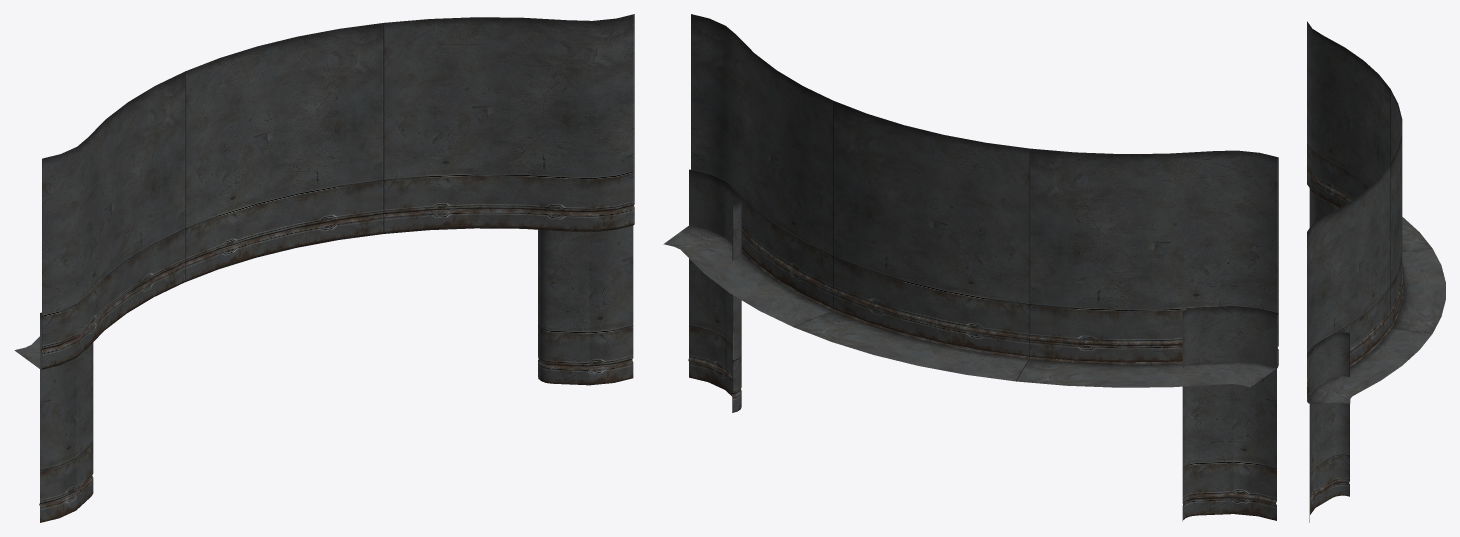
File: datasite_divesuit_lockers.dae
3 views of the same model, side by side, from view 1: azimuth 30°, elevation 25°; view 2: azimuth 150°, elevation 25°; view 3: azimuth 270°, elevation 25° (orthographic). The views are drawn at different scales.
Visible parts, largest first — view 1: divesuit_lockers; view 2: divesuit_lockers; view 3: divesuit_lockers.
Part boxes in pixels (x1=…): divesuit_lockers: x1=14, y1=14, x2=634, y2=522; divesuit_lockers: x1=663, y1=14, x2=1278, y2=521; divesuit_lockers: x1=1307, y1=21, x2=1445, y2=522.
Bounding box in the file's own units: 11.82 × 6.96 × 3.08.
